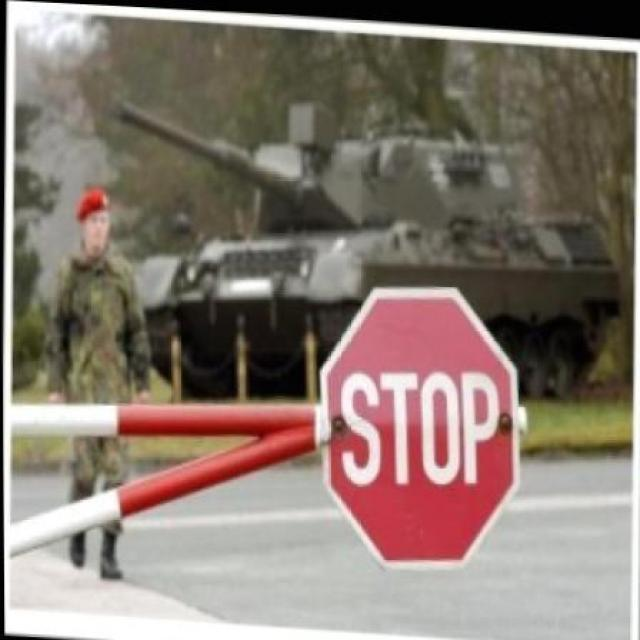stop_sign: (316, 274, 526, 566)
